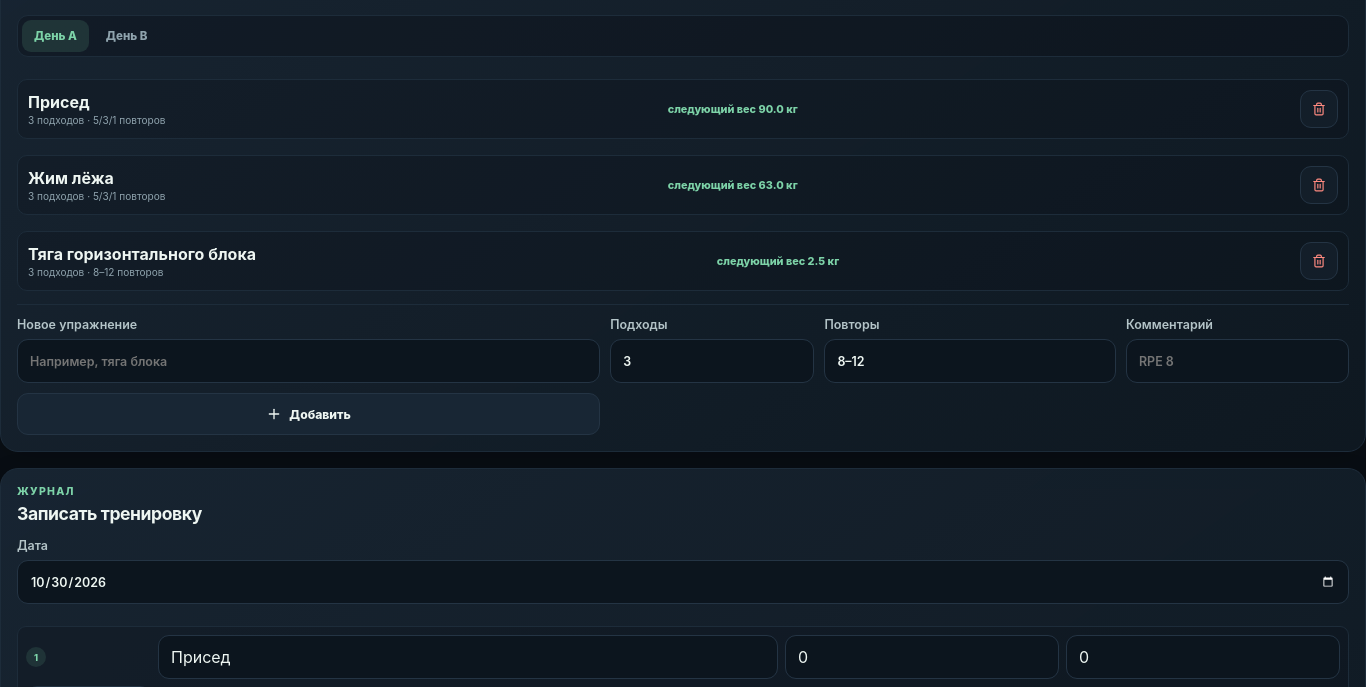
страница тренировок › добавляет упражнение в выбранный день
The image size is (1366, 687).
(page scrolled)
Type "Тяга блока" into the field with placeholder "Например, тяга блока".
click(309, 361); type("Тяга блока")  # box [17, 339, 600, 383]
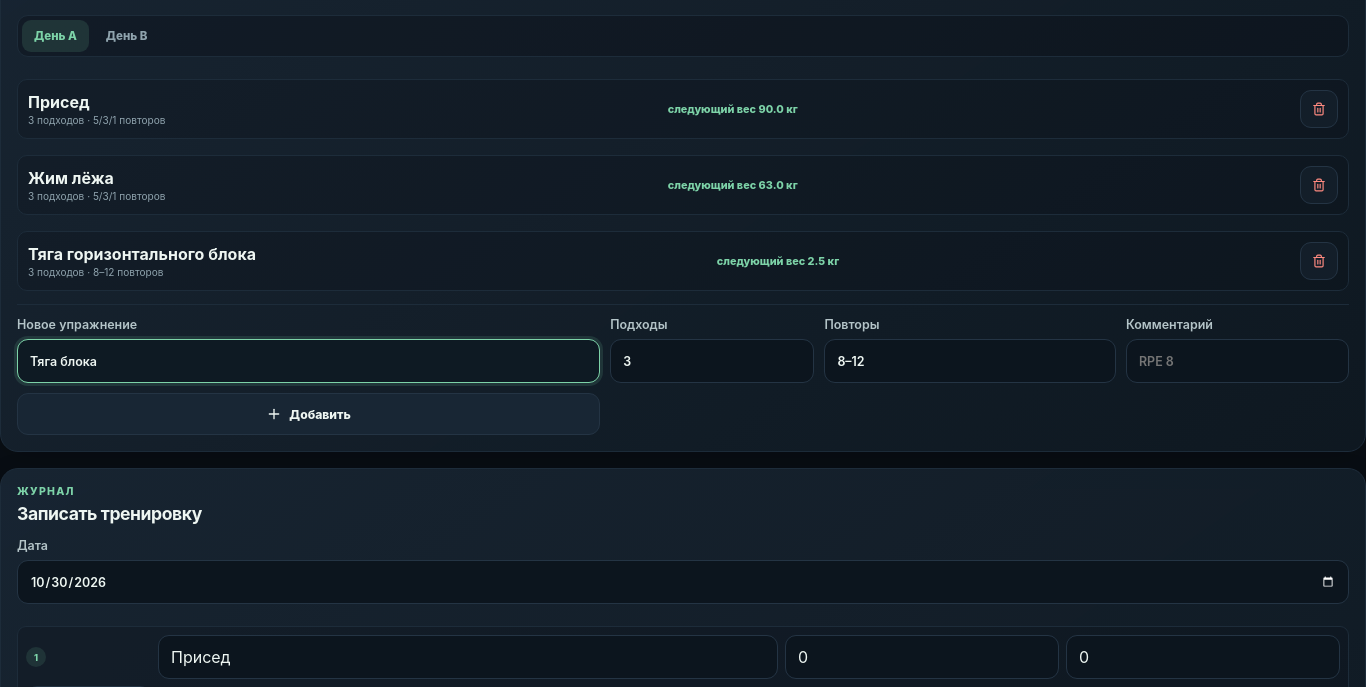
Click the button "Добавить".
click(309, 414)  # box [17, 393, 600, 435]
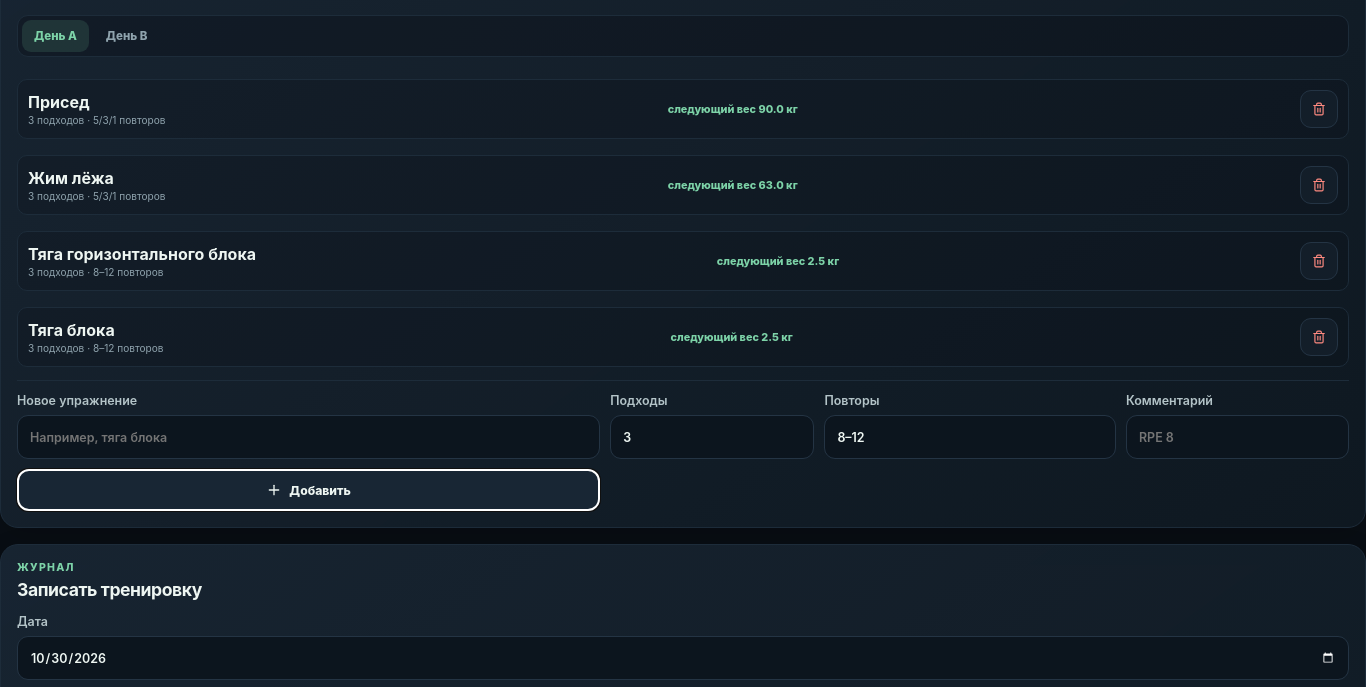
Expected: the text "Тяга блока" is shown, [28, 320, 115, 340]
Expected: the number of elements with class "exercise-row" is 4, [17, 79, 1349, 139]; [17, 155, 1349, 215]; [17, 231, 1349, 291]; [17, 307, 1349, 367]
